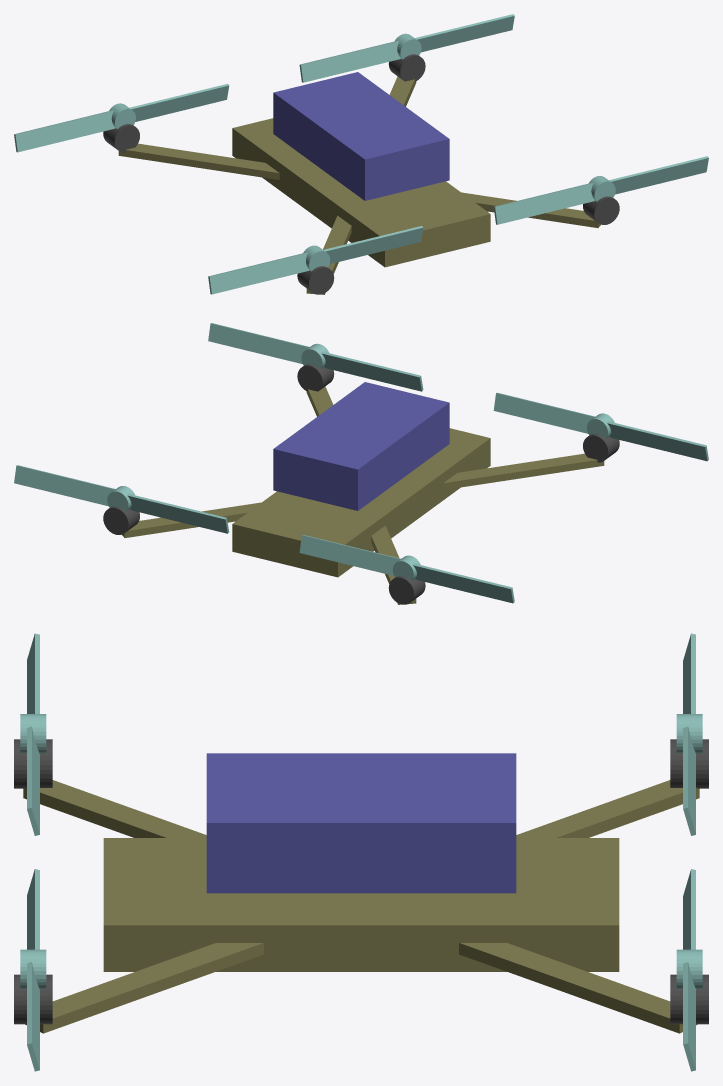
Rendered from Five33 Spec 7.glb.
The picture shows the model from 3 angles, top to bottom: view 1: azimuth 30°, elevation 25°; view 2: azimuth 150°, elevation 25°; view 3: azimuth 270°, elevation 25°; orthographic projection. The views are drawn at different scales.
Visible parts, largest first — view 1: battery, frame_body, prop_2, prop_3, prop_1, prop_0, arm_3, arm_0, motor_2, motor_0, motor_1, motor_3 (+2 smaller); view 2: battery, frame_body, prop_3, prop_2, prop_0, prop_1, arm_2, arm_1, motor_3, motor_1, motor_0, motor_2 (+2 smaller); view 3: frame_body, battery, arm_0, arm_1, arm_2, arm_3, prop_0, prop_2, prop_1, prop_3, motor_0, motor_1 (+2 smaller).
Boxes of the visible parts, x1,y1,x2,y2 form: battery: (273,72,449,200); frame_body: (232,118,490,267); prop_2: (208,226,423,294); prop_3: (14,83,229,152); prop_1: (299,14,514,82); prop_0: (493,156,708,224); arm_3: (118,143,279,179); arm_0: (461,192,600,227); motor_2: (297,266,334,294); motor_0: (583,196,619,224); motor_1: (388,54,425,81); motor_3: (103,124,139,152); battery: (273,382,449,510); frame_body: (232,428,490,577); prop_3: (299,535,514,603); prop_2: (493,392,708,461); prop_0: (208,323,423,391); prop_1: (14,465,229,533); arm_2: (443,453,604,489); arm_1: (122,502,261,537); motor_3: (388,576,425,604); motor_1: (103,506,139,534); motor_0: (297,364,334,391); motor_2: (583,434,619,462); frame_body: (103,838,619,971); battery: (206,753,516,893); arm_0: (25,943,263,1033); arm_1: (459,943,697,1033); arm_2: (23,780,206,837); arm_3: (516,780,699,837); prop_0: (20,869,46,1071); prop_2: (20,633,46,835); prop_1: (676,869,702,1071); prop_3: (676,633,702,835); motor_0: (14,974,52,1024); motor_1: (670,974,708,1024).
Bounding box in the file's own units: 0.376 × 0.06 × 0.2694.
